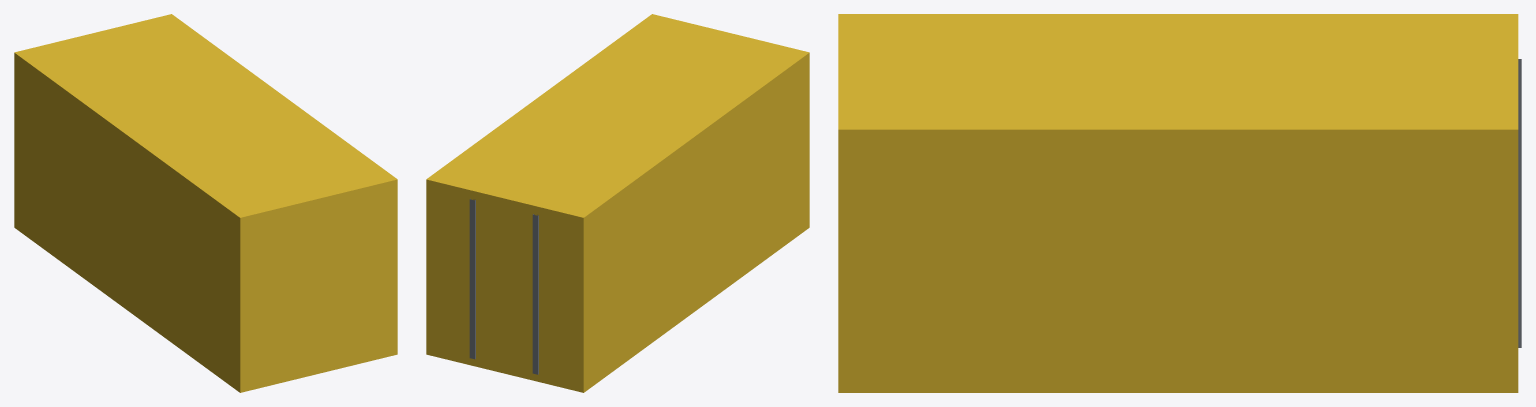
3 views of the same model, side by side, from view 1: azimuth 30°, elevation 25°; view 2: azimuth 150°, elevation 25°; view 3: azimuth 270°, elevation 25° (orthographic). The views are drawn at different scales.
Visible parts, largest first — view 1: 407; view 2: 407; view 3: 407.
Boxes of the visible parts, box(x1,y1,x2,y2) form: 407: box(14, 14, 397, 392); 407: box(426, 14, 809, 392); 407: box(838, 14, 1521, 392).
Bounding box in the file's own units: 2.44 × 2.59 × 6.09.
